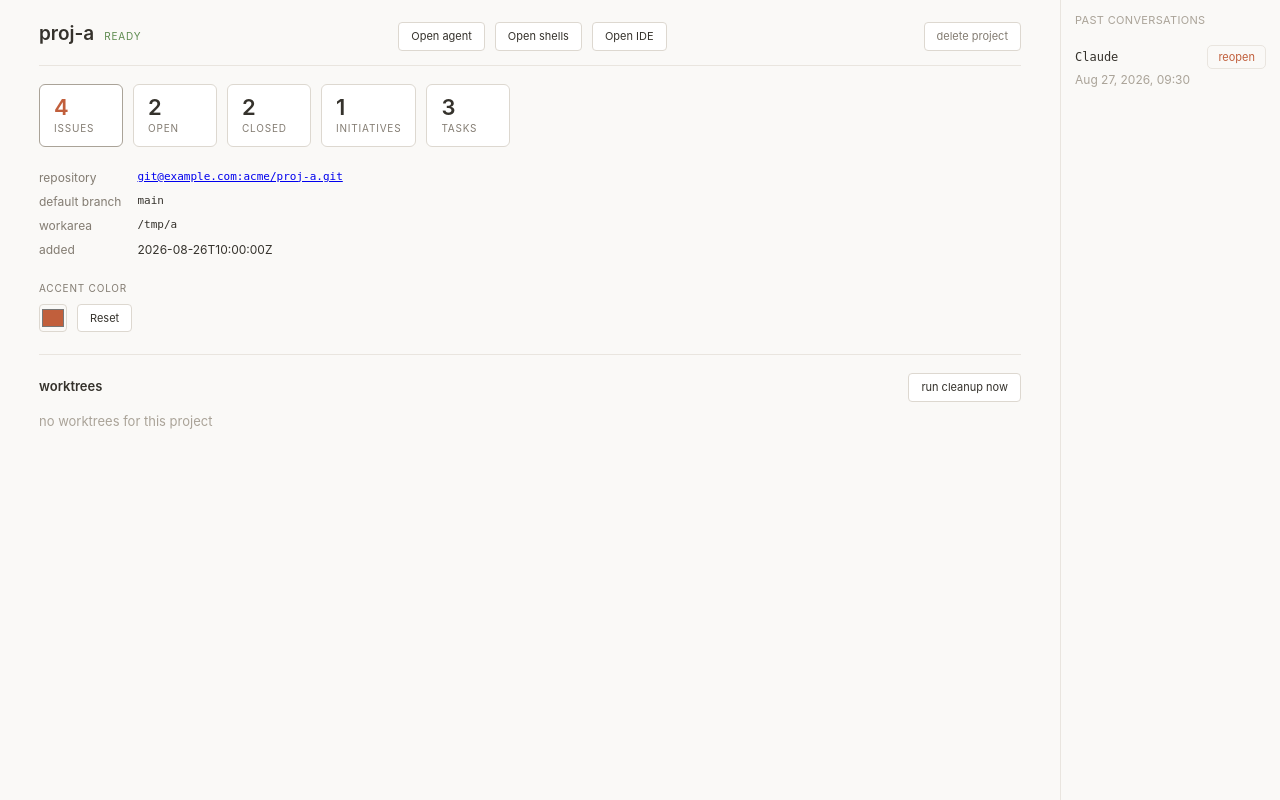
it: ProjectSummaryComponent › past sessions column (#752) › shows an error and re-arms when reopening a past conversation fails
Click the button with class "reopen" at [1237, 57], box [1207,44,1266,69]
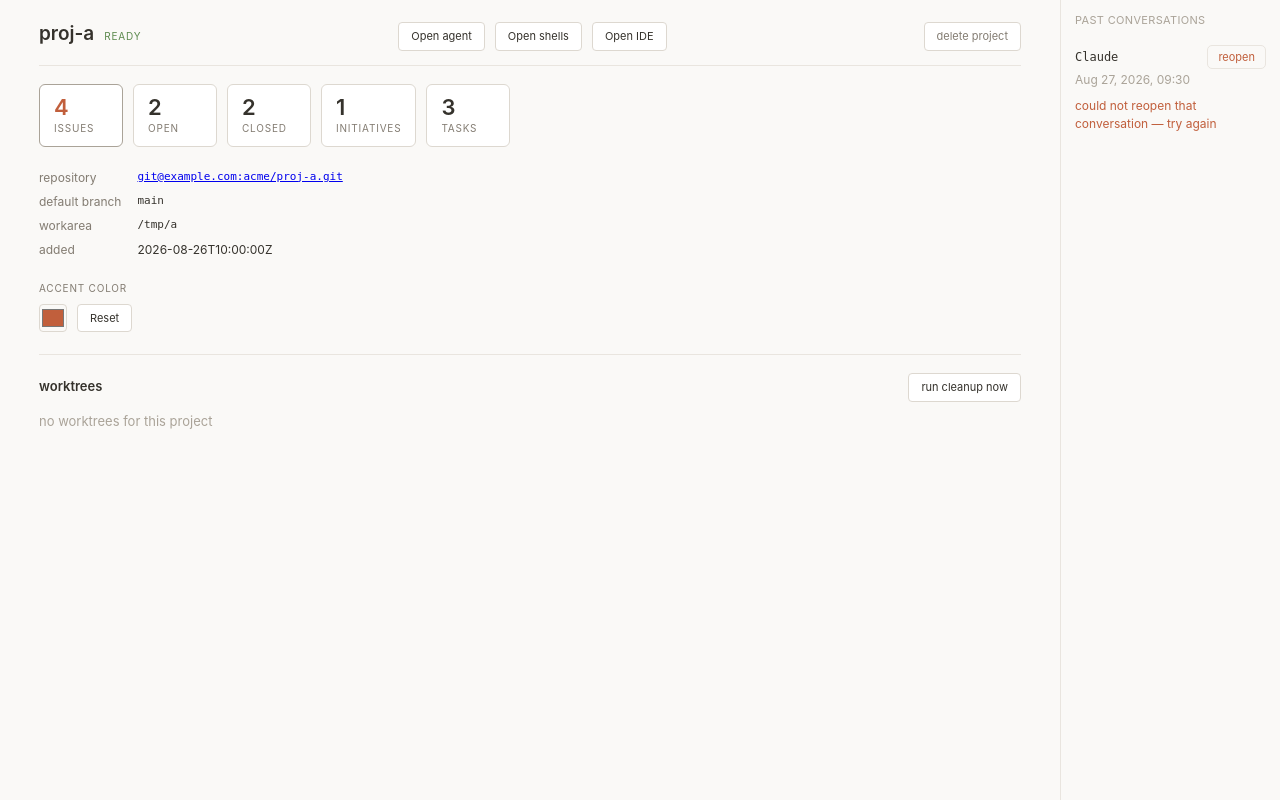
Expected: the text "could not reopen that conversation" is shown, [1075,98,1216,131]
